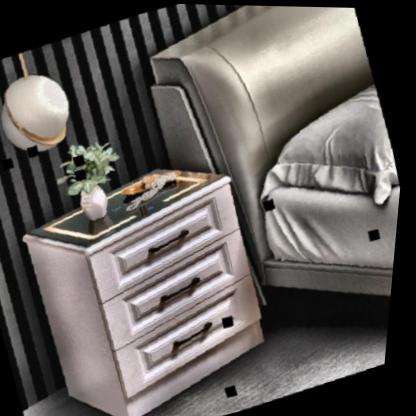Nightstand: (14, 156, 291, 416)
